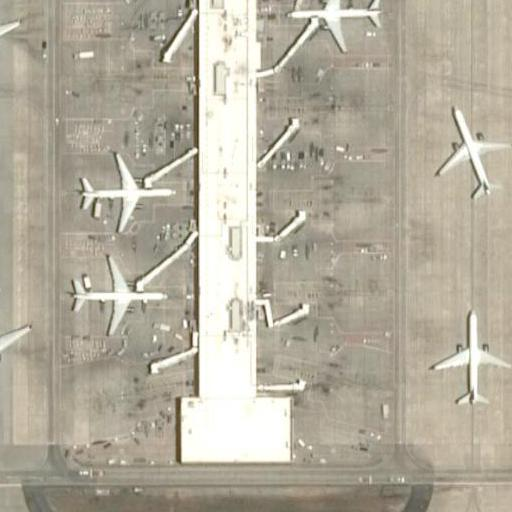Aircraft: (430, 311, 510, 408), (71, 254, 166, 335), (435, 102, 509, 202), (75, 154, 171, 227), (285, 0, 384, 50), (0, 285, 24, 404), (0, 0, 20, 79)
